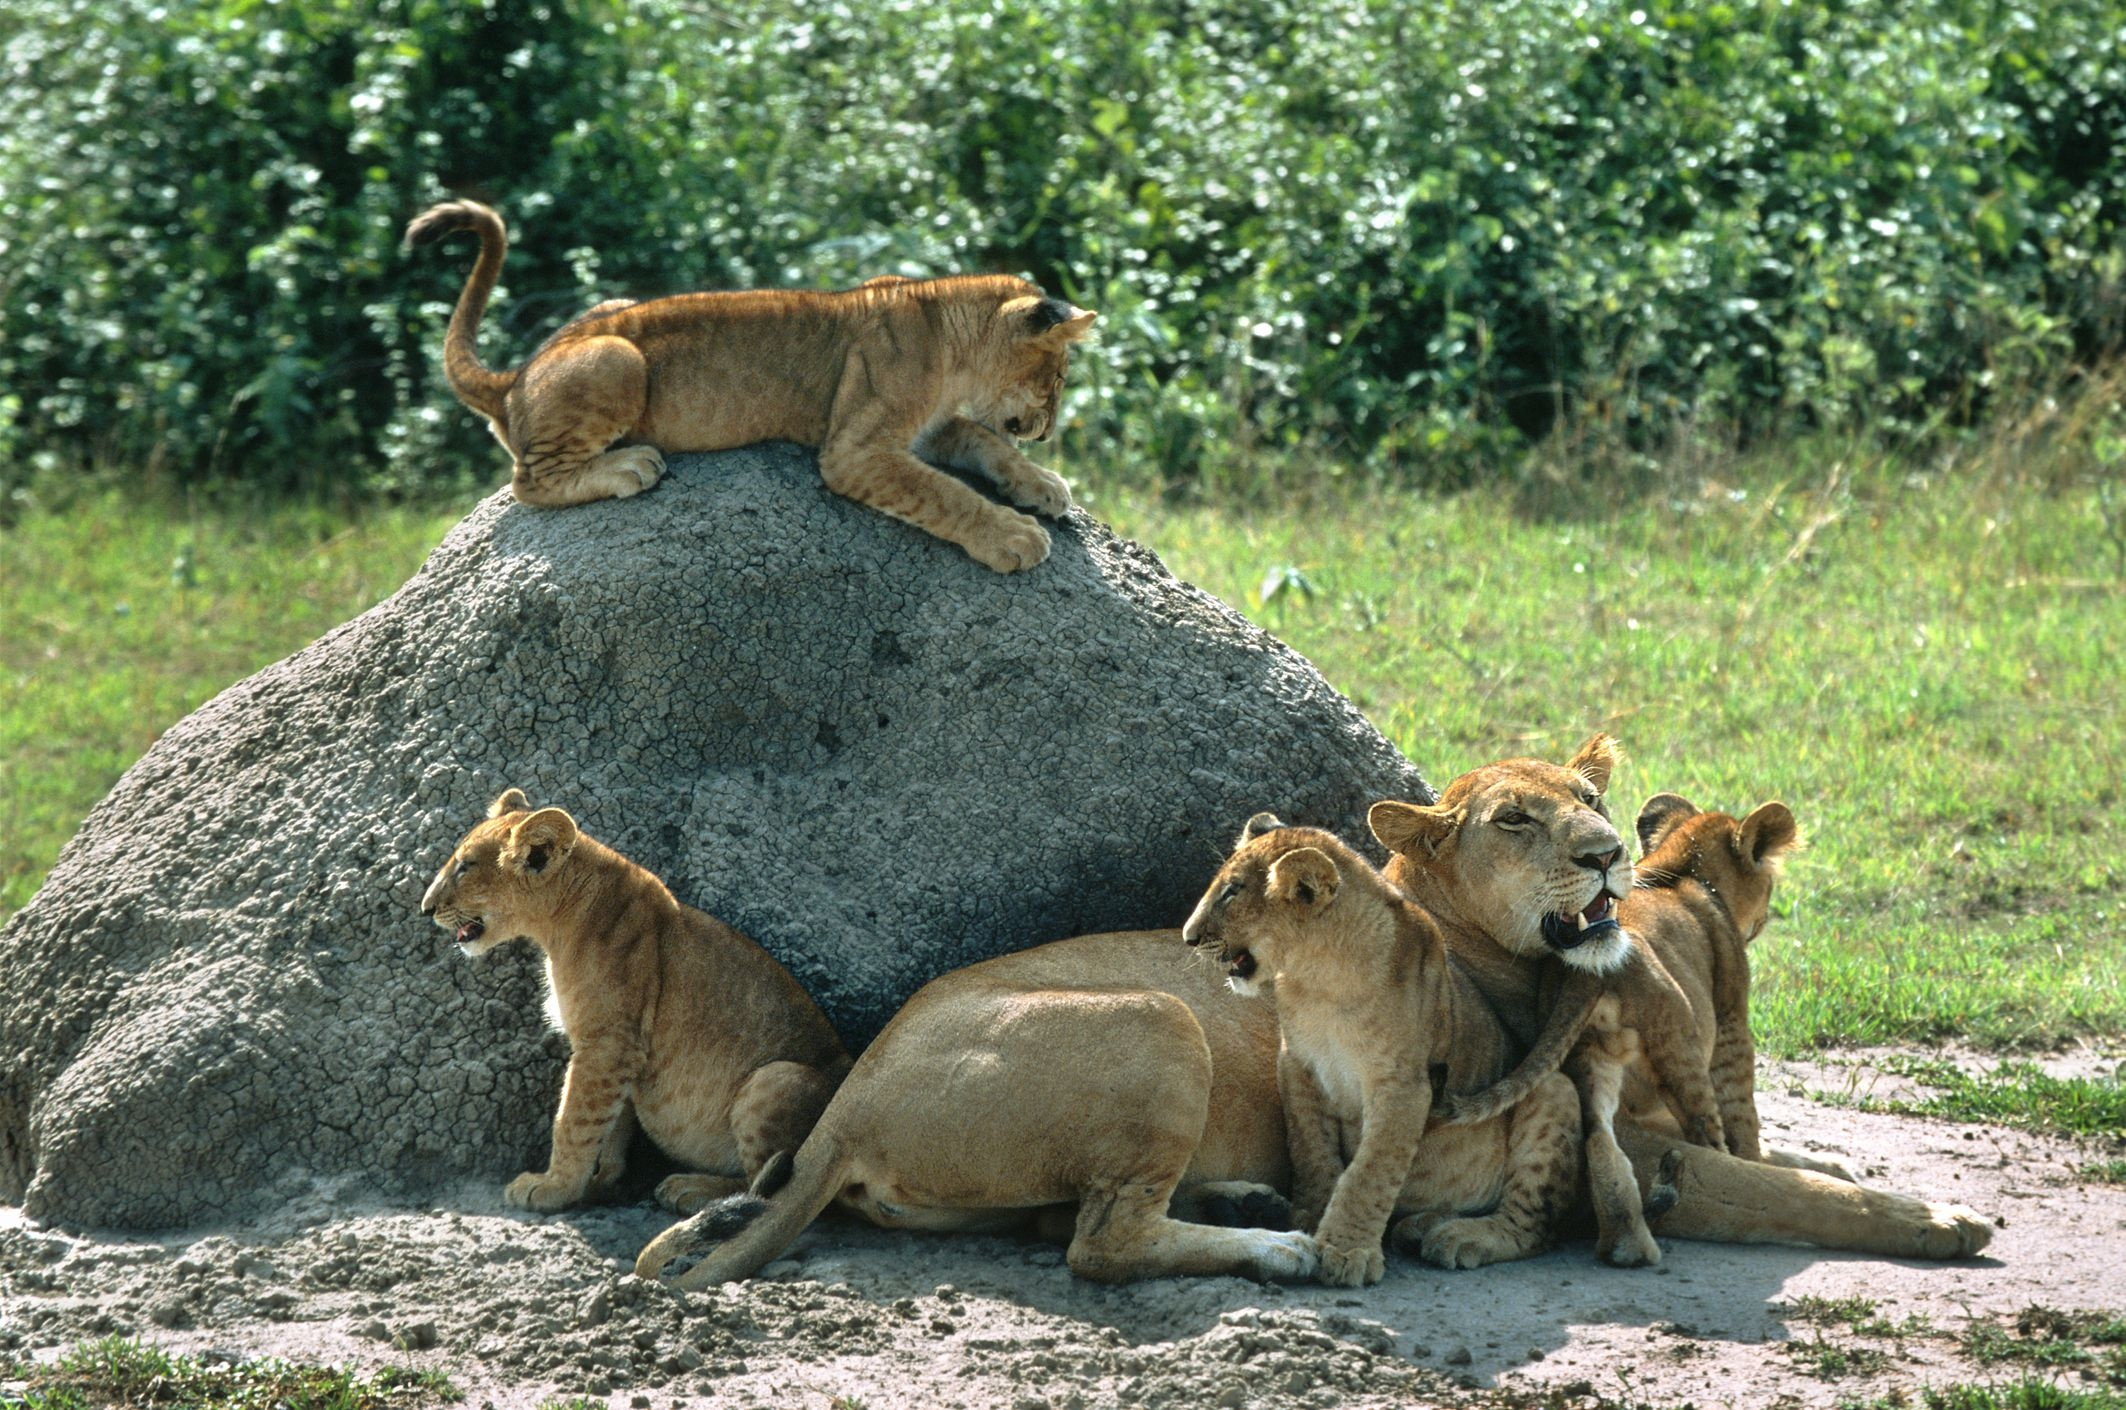lion: (628, 725, 2010, 1317), (397, 186, 1127, 582), (1172, 799, 1619, 1298), (409, 766, 886, 1232), (1558, 779, 1814, 1284)
